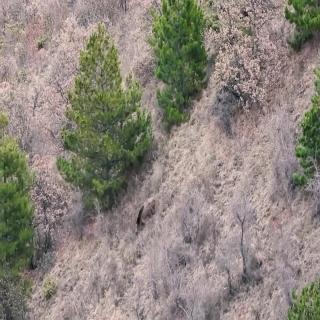Pig: (128, 192, 156, 240)
